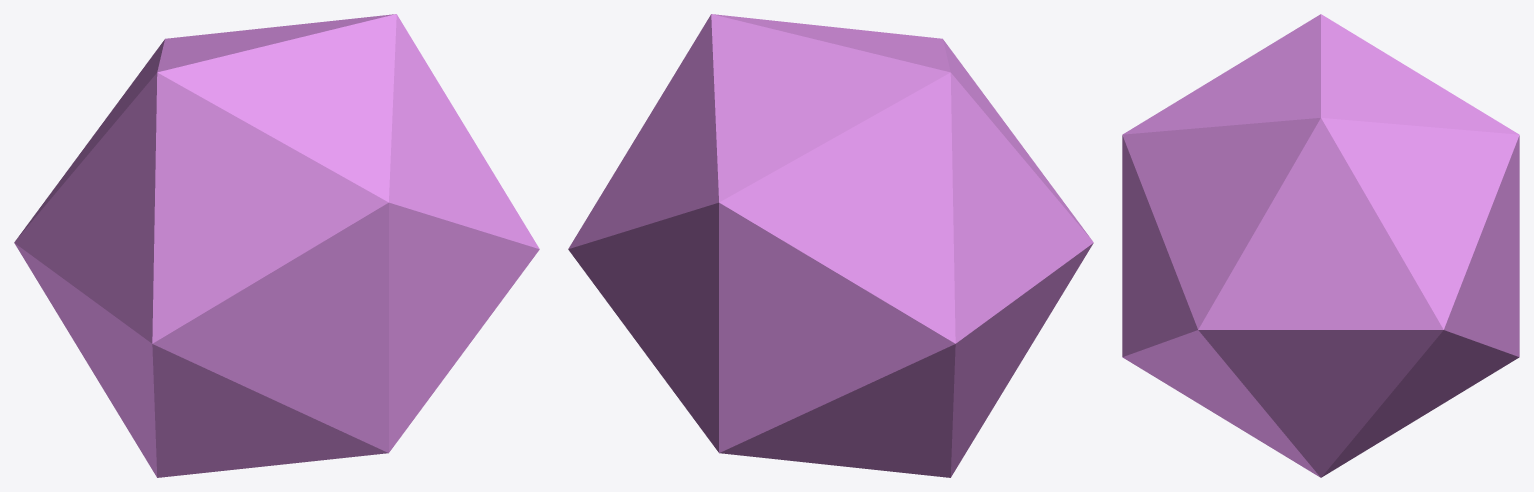
File: platonic.glb
The picture shows the model from 3 angles, left to right: view 1: azimuth 30°, elevation 25°; view 2: azimuth 150°, elevation 25°; view 3: azimuth 270°, elevation 25°; orthographic projection. The views are drawn at different scales.
Visible parts, largest first — view 1: Platonic; view 2: Platonic; view 3: Platonic.
Part boxes in pixels (x1=…): Platonic: x1=14, y1=14, x2=539, y2=477; Platonic: x1=568, y1=14, x2=1093, y2=477; Platonic: x1=1122, y1=14, x2=1519, y2=477.
Bounding box in the file's own units: 510 × 510 × 510.
